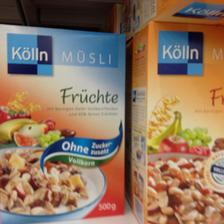Cerealien: (0, 21, 128, 223), (129, 20, 223, 216)
